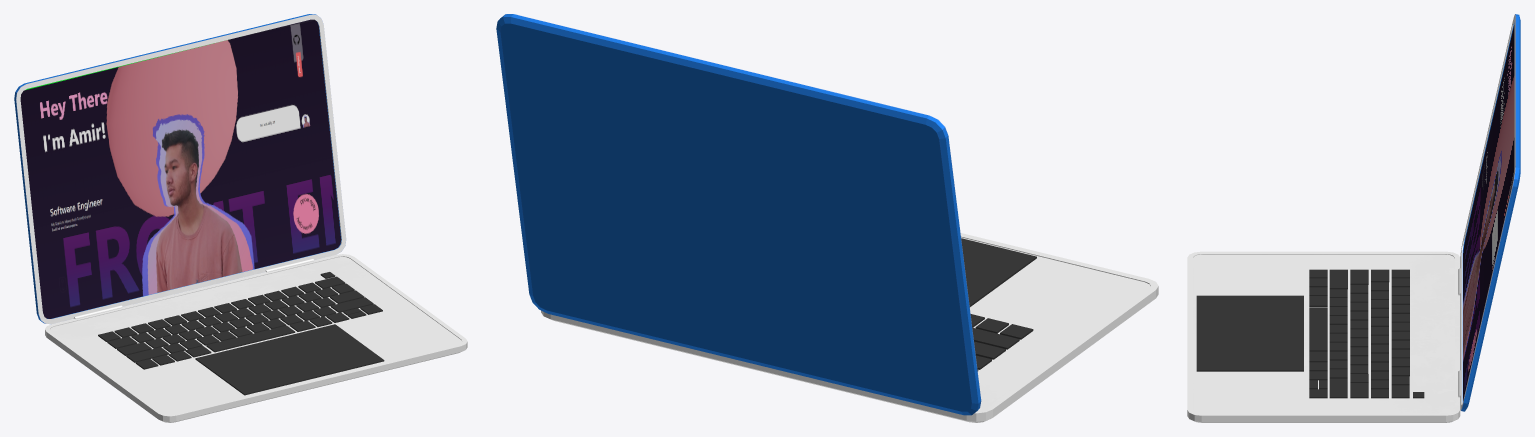
The model's file is lowpollap1.glb.
3 views of the same model, side by side, from view 1: azimuth 30°, elevation 25°; view 2: azimuth 150°, elevation 25°; view 3: azimuth 270°, elevation 25° (orthographic). The views are drawn at different scales.
Visible parts, largest first — view 1: Screen_Screen_0.001, Chassis, Screen; view 2: Screen, Chassis; view 3: Chassis, Screen_Screen_0.001, Screen.
Boxes of the visible parts, left/top/right/bottom form: Screen_Screen_0.001: left=20, top=19, right=341, bottom=318; Chassis: left=45, top=254, right=467, bottom=422; Screen: left=14, top=14, right=346, bottom=324; Screen: left=496, top=14, right=981, bottom=415; Chassis: left=541, top=233, right=1158, bottom=422; Chassis: left=1187, top=251, right=1460, bottom=422; Screen_Screen_0.001: left=1463, top=25, right=1514, bottom=400; Screen: left=1458, top=14, right=1520, bottom=411.
Bounding box in the file's own units: 13.75 × 9.82 × 11.8.
3 materials, 3 textured.
